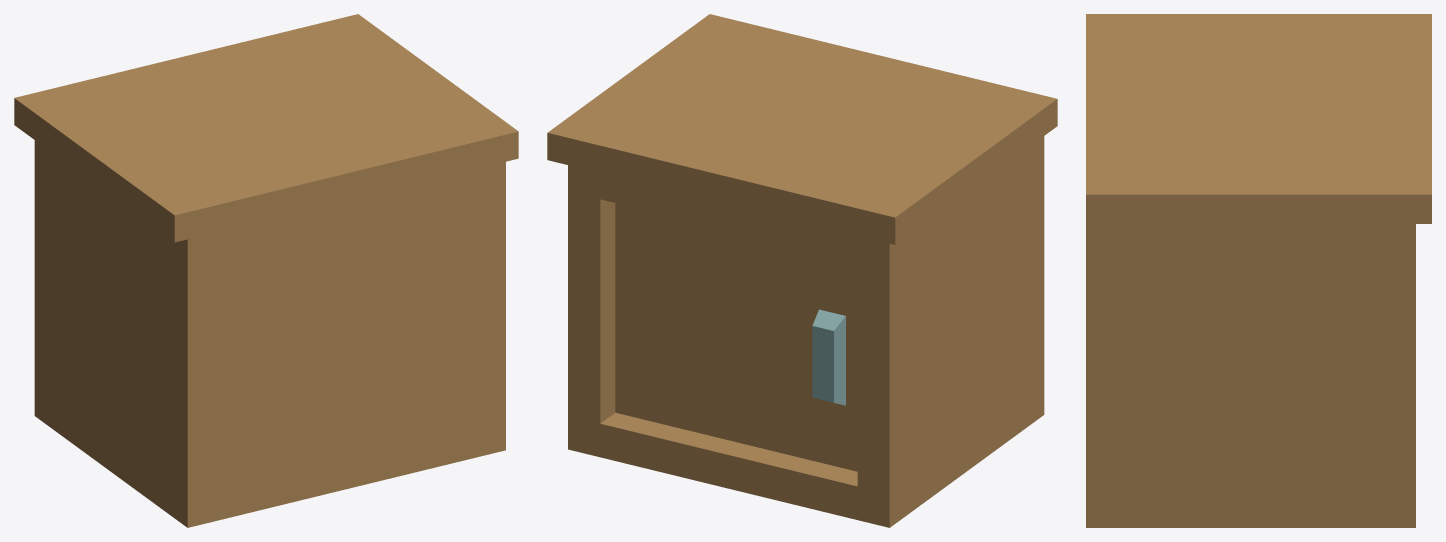
Rendered from cabinetBed.glb.
The picture shows the model from 3 angles, left to right: view 1: azimuth 30°, elevation 25°; view 2: azimuth 150°, elevation 25°; view 3: azimuth 270°, elevation 25°; orthographic projection. The views are drawn at different scales.
Parts seen in each view (by area): view 1: cabinetBed; view 2: cabinetBed; view 3: cabinetBed.
Boxes of the visible parts, box(x1,y1,x2,y2) form: cabinetBed: box(14, 14, 518, 527); cabinetBed: box(547, 14, 1057, 527); cabinetBed: box(1086, 14, 1431, 527).
Size of the model in its own units: 0.532 by 0.4664 by 0.43.
